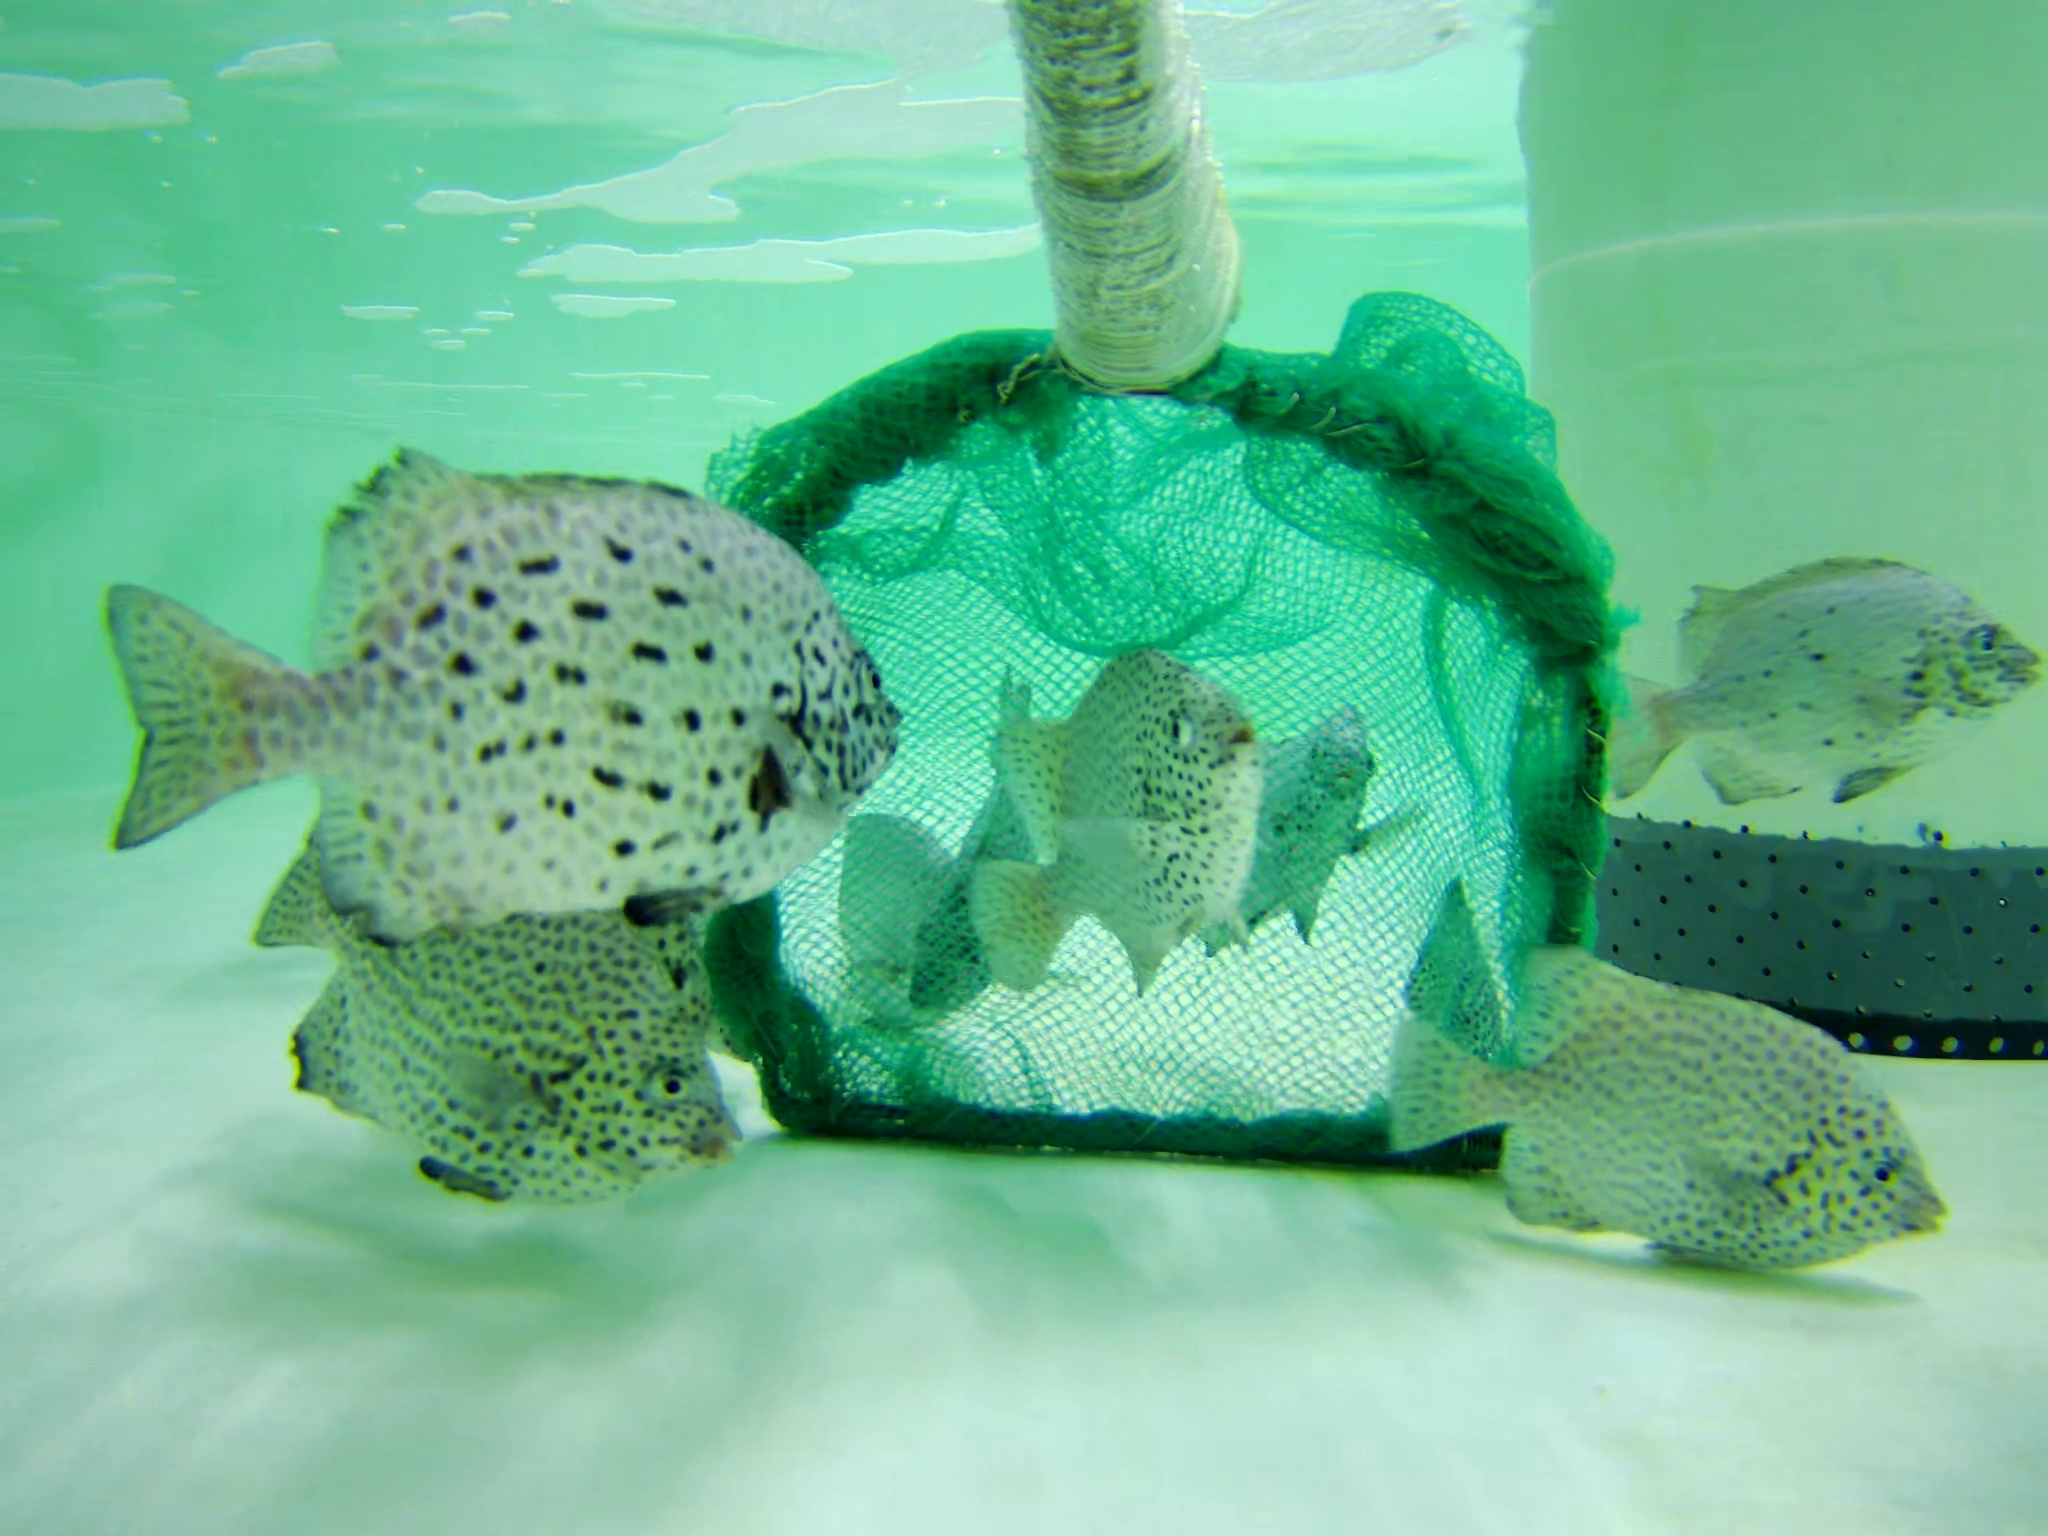fish: (82, 444, 903, 915), (1390, 941, 1945, 1268), (255, 815, 735, 1179), (1567, 547, 2048, 813), (969, 650, 1264, 1010), (287, 950, 632, 1234), (1409, 878, 1848, 1075), (826, 803, 972, 1047), (1259, 703, 1398, 945)
